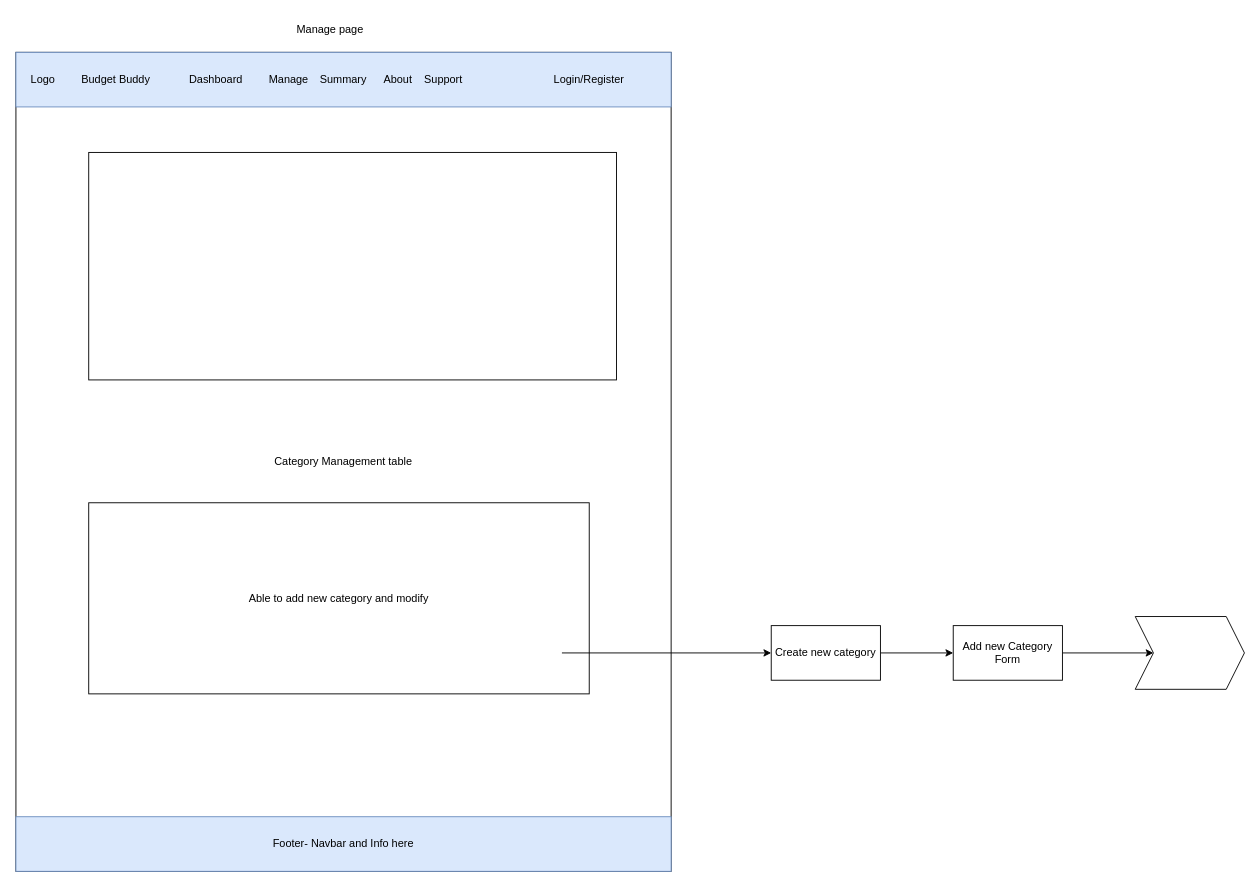
The diagram is 1260 pixels wide and 887 high, and some of its shapes have lost their labels. Each missing label, with the box of its shape:
Category name and label: (1134, 616, 1244, 689)
Table to show all the transactions with Edit options, remove options etc.: (88, 152, 617, 380)
